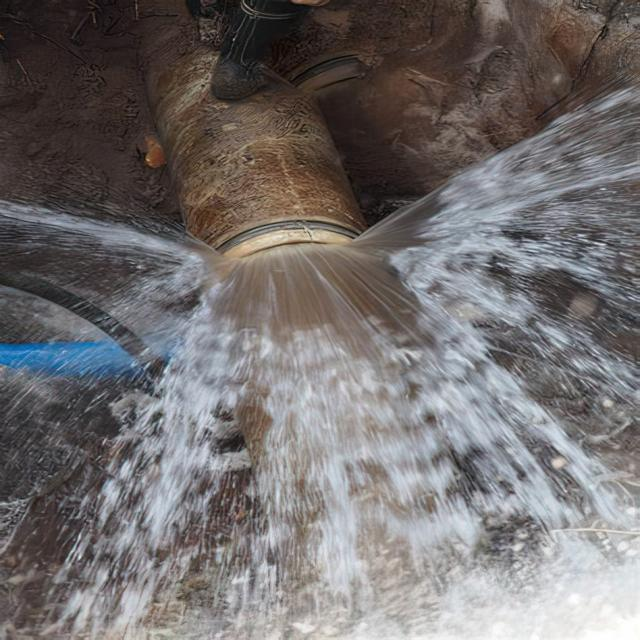leak: (5, 86, 637, 631)
